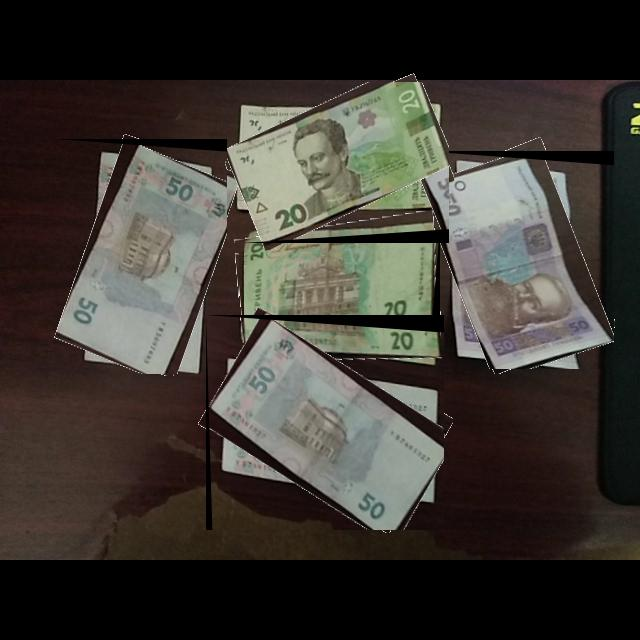20uah: (227, 82, 450, 243), (244, 235, 434, 346)
50uah: (209, 319, 445, 531), (56, 144, 240, 375), (422, 157, 615, 370)
